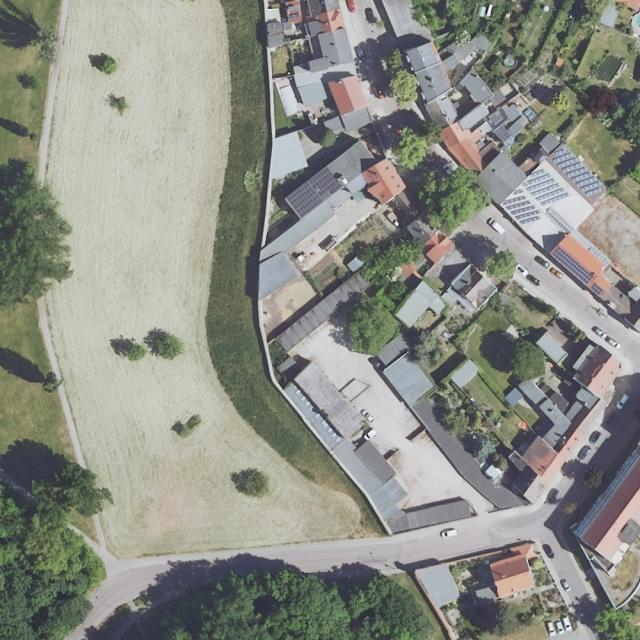PV: (287, 168, 342, 217), (553, 148, 601, 197), (551, 246, 595, 286), (522, 170, 570, 205), (502, 189, 542, 225), (590, 284, 603, 296)
